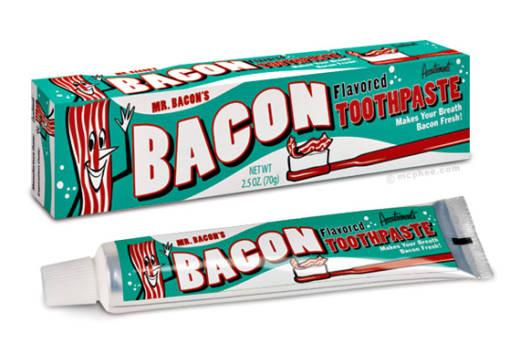toothpaste: (16, 35, 474, 224), (35, 211, 509, 319)
